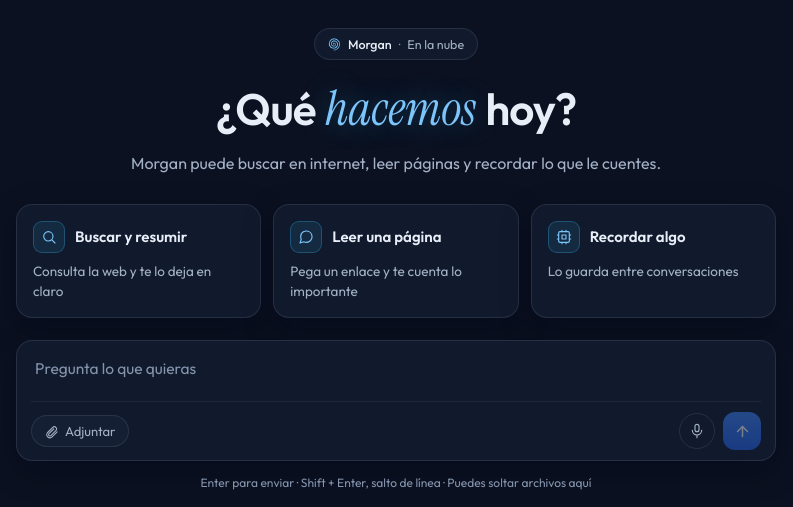
Test: La conexión se corta a mitad del turno › si el turno no llegó a empezar, se puede reintentar como siempre
The image size is (793, 507).
Type "hola" into the text box at [396, 378], box [31,355,761,401]
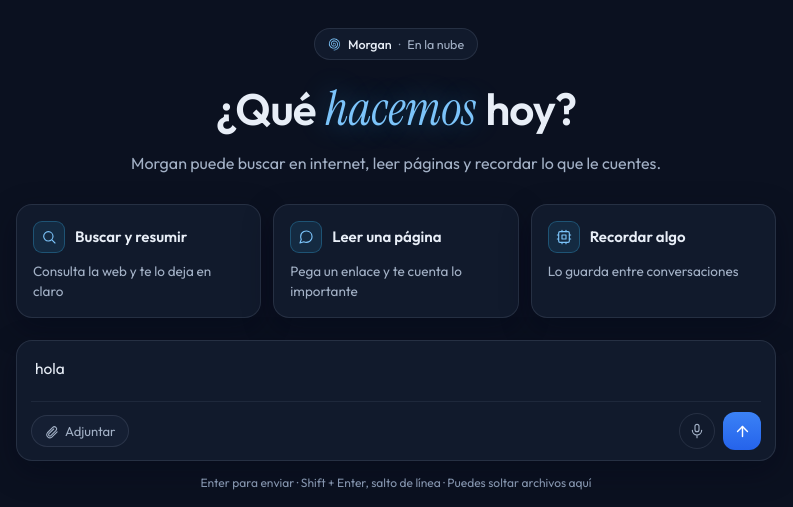
Press Enter in the text box, box [31,355,761,401]
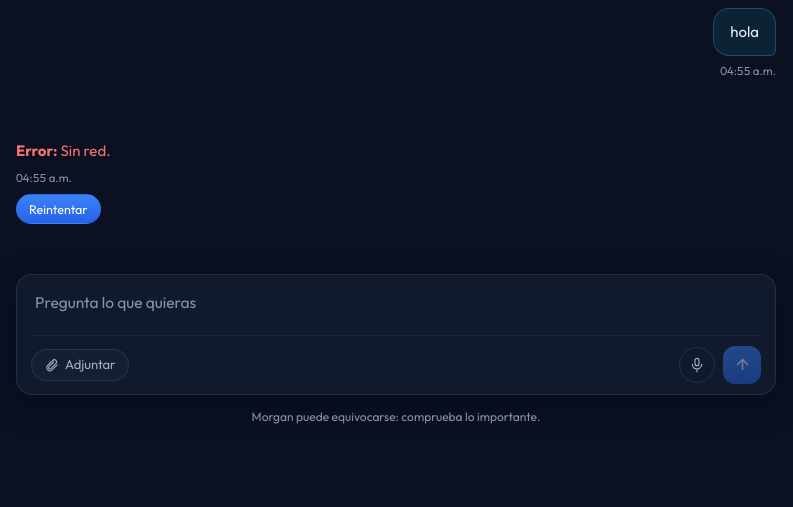
Expected: the button "Reintentar" is shown, [16,194,101,224]
